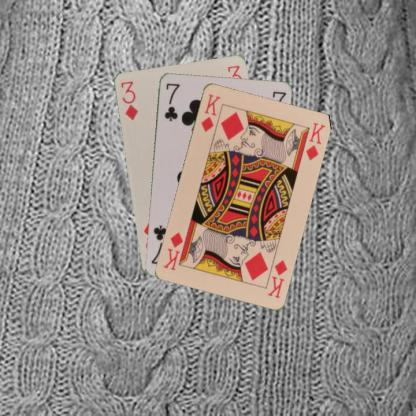3d: (118, 78, 139, 121)
7c: (162, 80, 181, 122)
Kd: (198, 91, 222, 133), (265, 257, 288, 299)
